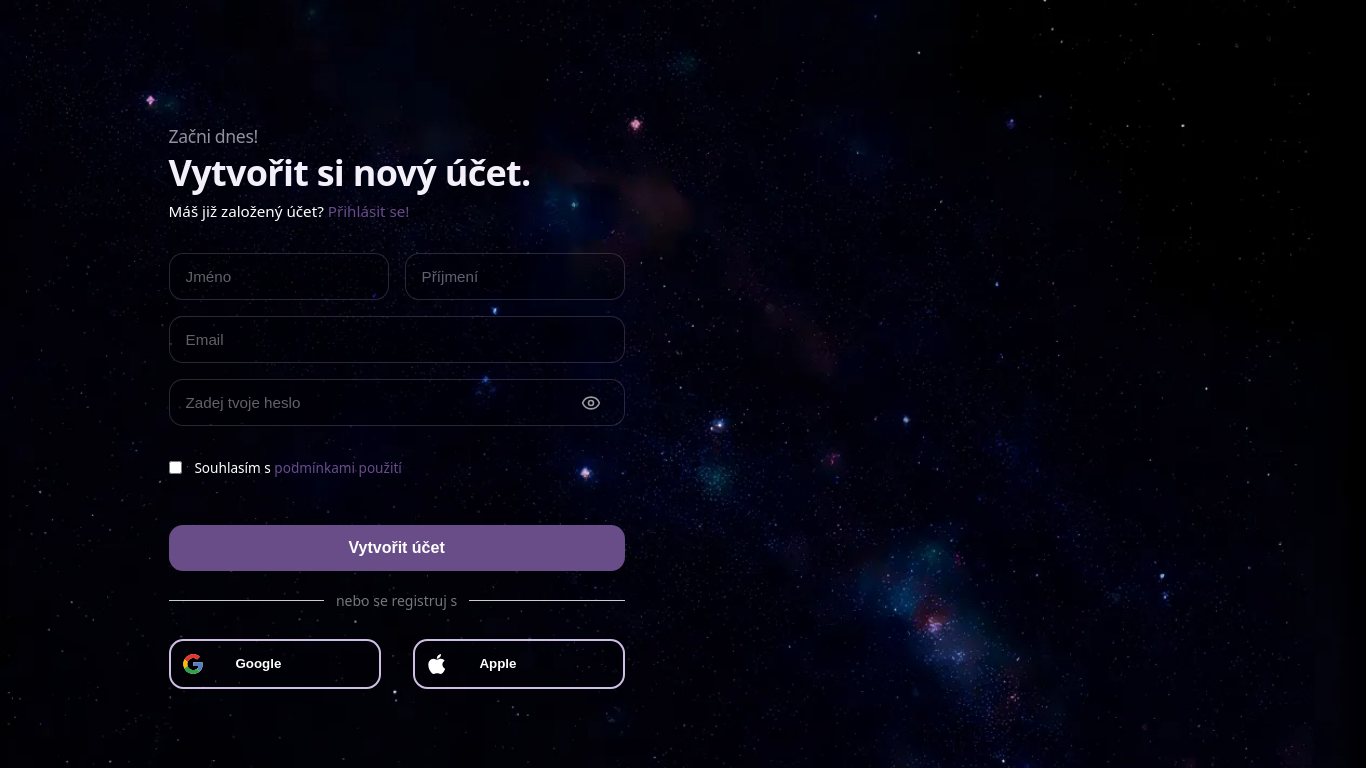
Test: RegisterForm › shows error for short password
The width and height of the screenshot is (1366, 768).
Type "Jan" into the field with placeholder "Jméno" at (279, 277), box left=169, top=253, right=389, bottom=300
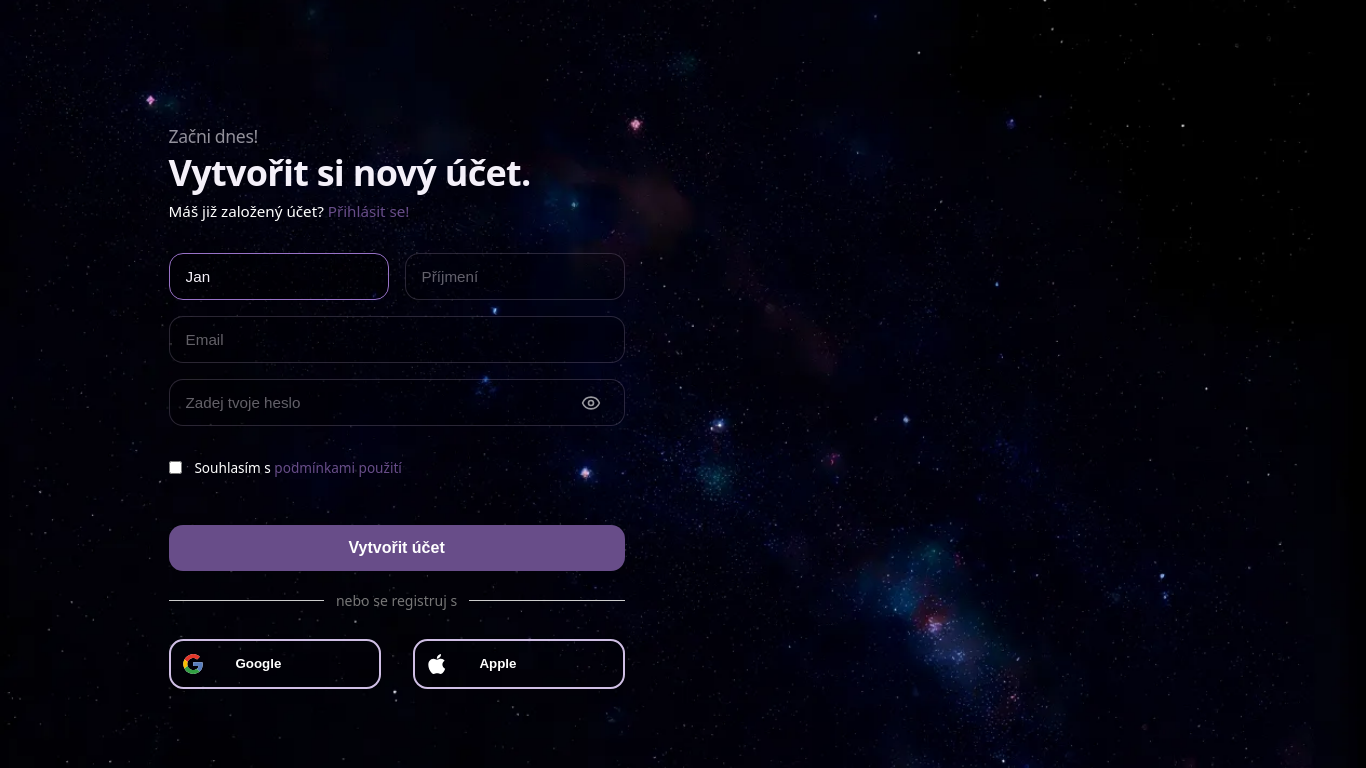
Type "Novák" into the field with placeholder "Příjmení" at (515, 277), box left=405, top=253, right=625, bottom=300
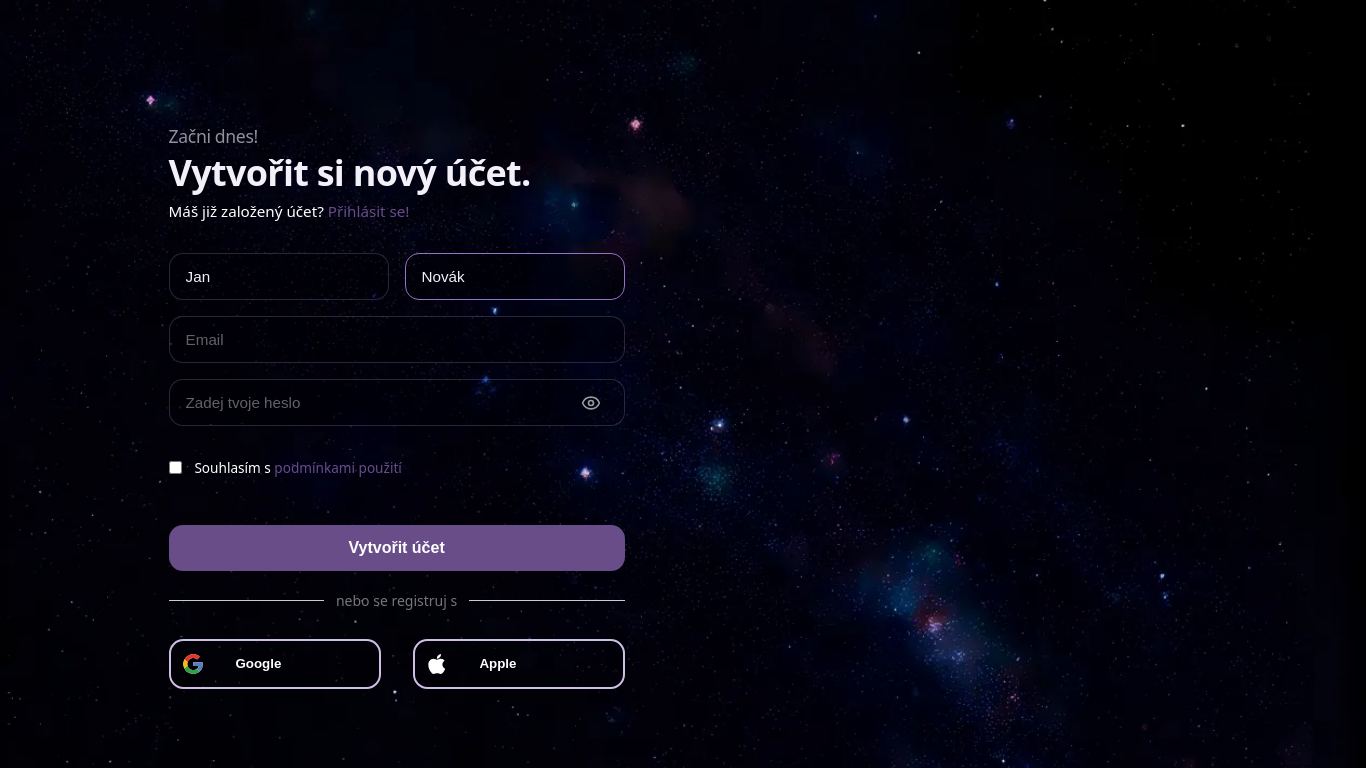
Type "jan@test.com" into the field with placeholder "Email" at (397, 340), box left=169, top=316, right=625, bottom=363
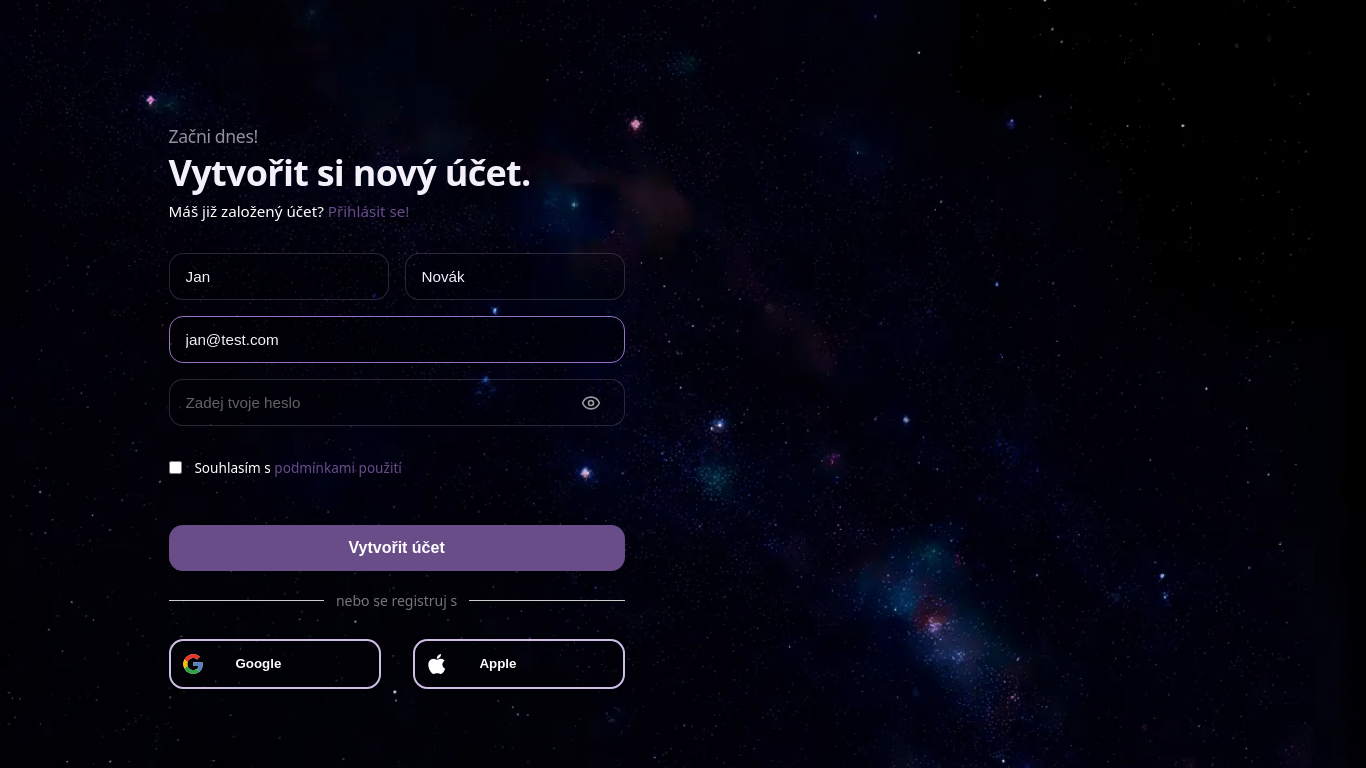
Type "short" into the password field with placeholder "Zadej tvoje heslo" at (397, 403), box left=169, top=379, right=625, bottom=426
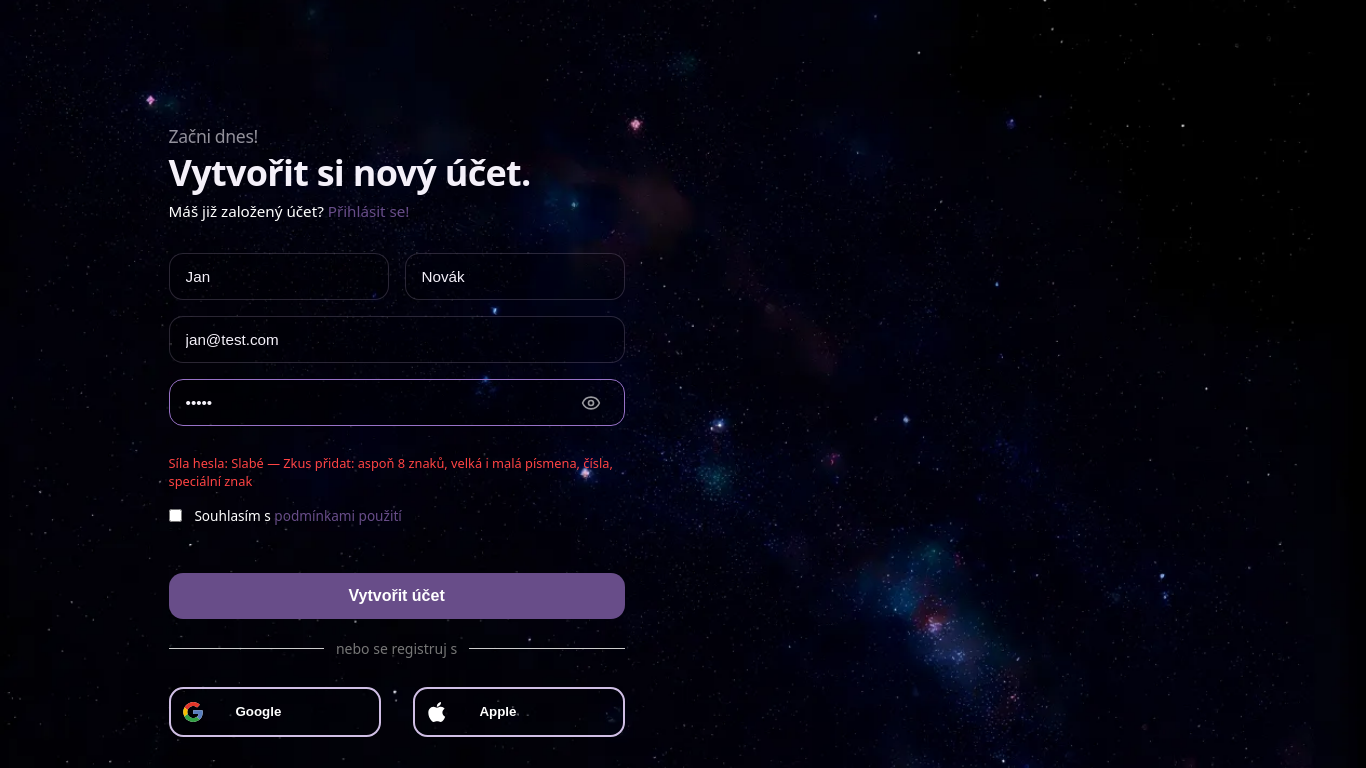
Click the checkbox labelled "Souhlasím s podmínkami použití" at (175, 516), box left=169, top=509, right=182, bottom=522
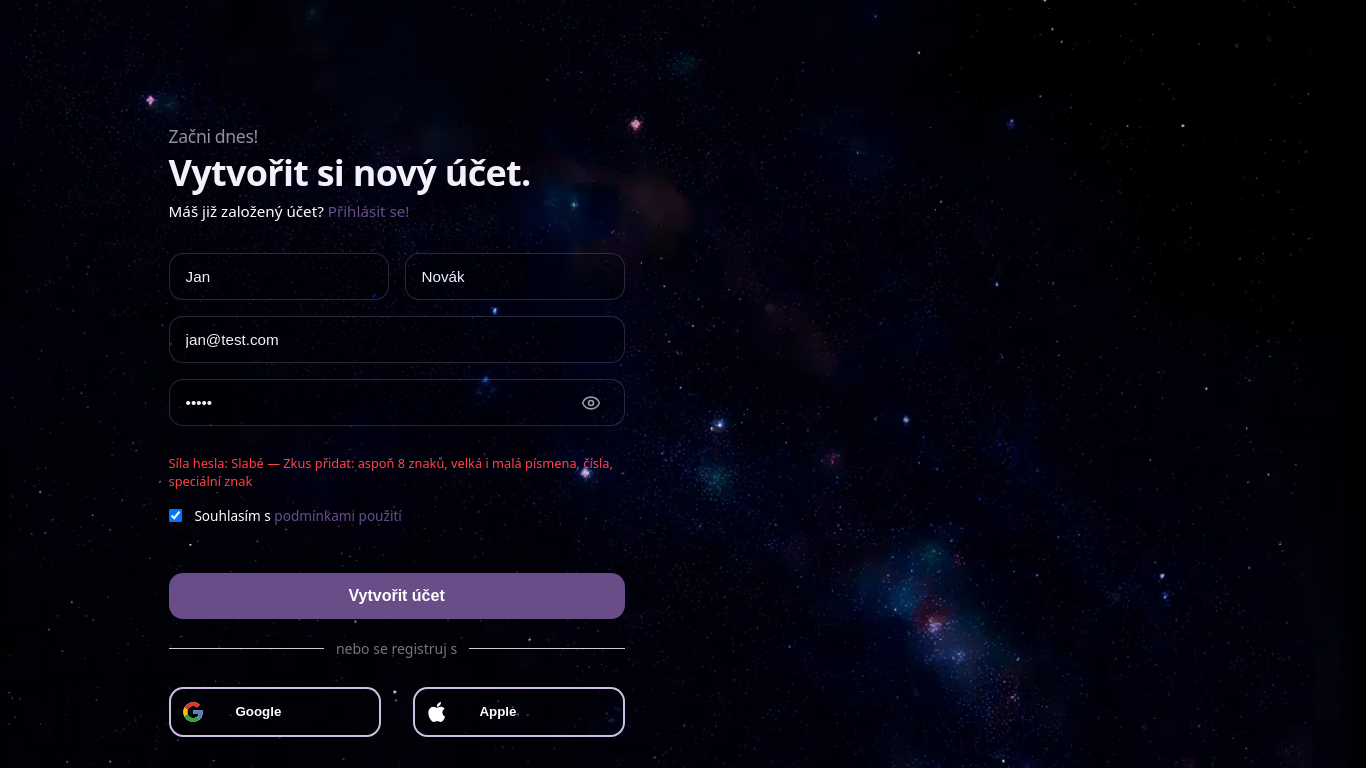
Click the button "Vytvořit účet" at (397, 596), box left=169, top=573, right=625, bottom=619
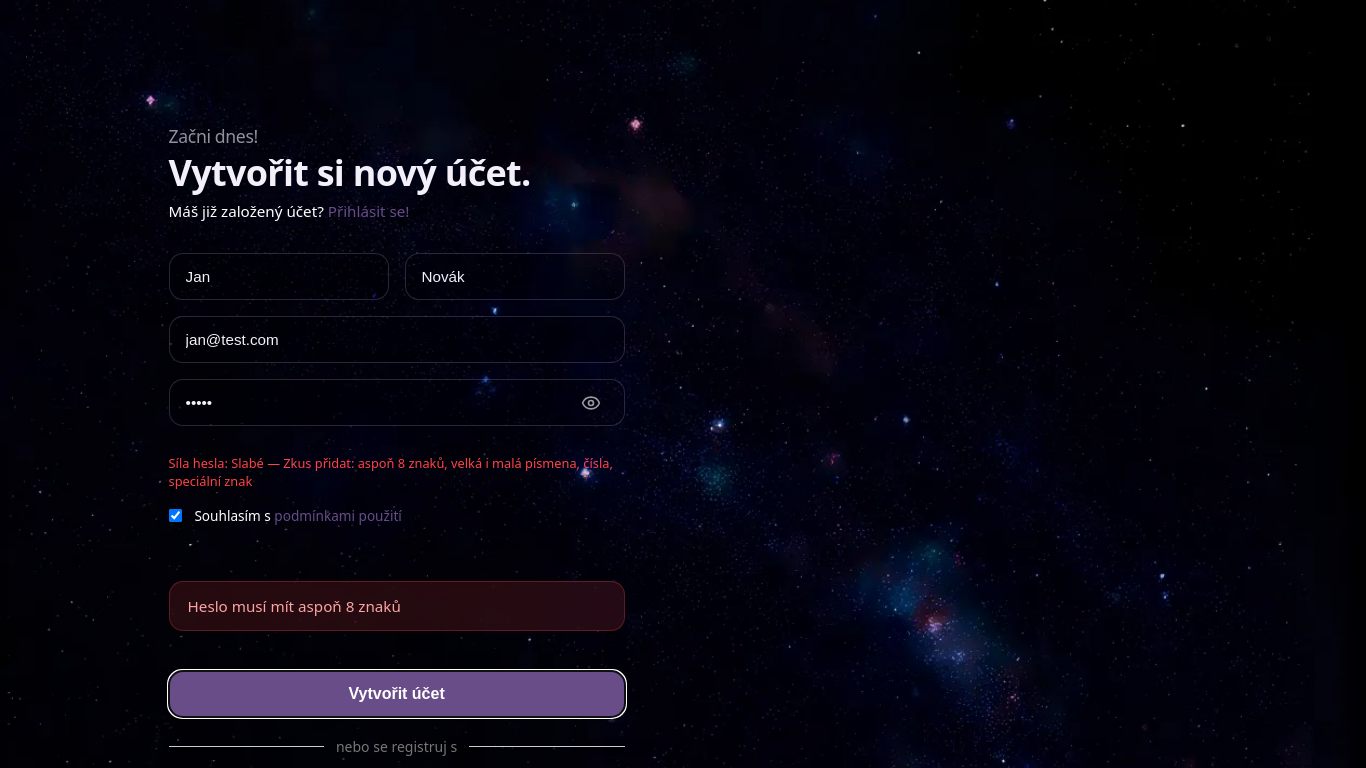
expect the message reads "Heslo musí mít aspoň 8 znaků": met, box left=188, top=596, right=401, bottom=616
